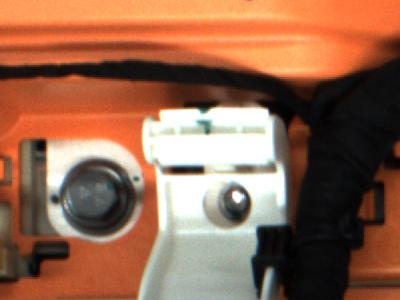nut_b: (59, 159, 145, 238)
